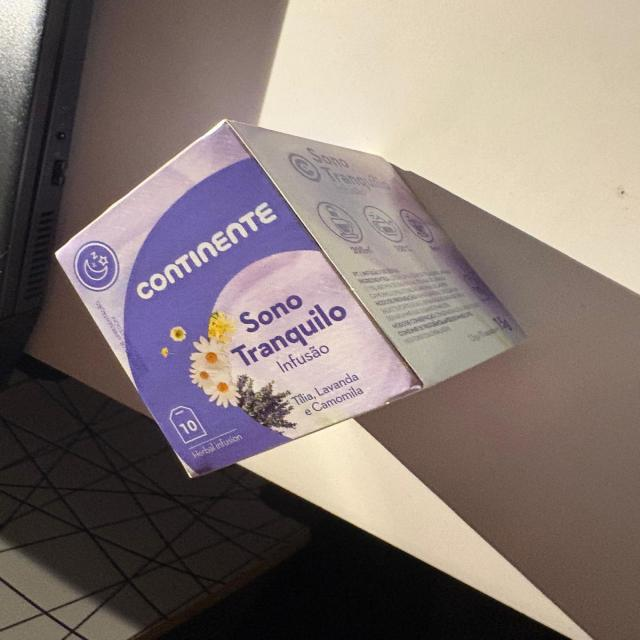good_package: (50, 117, 530, 478)
